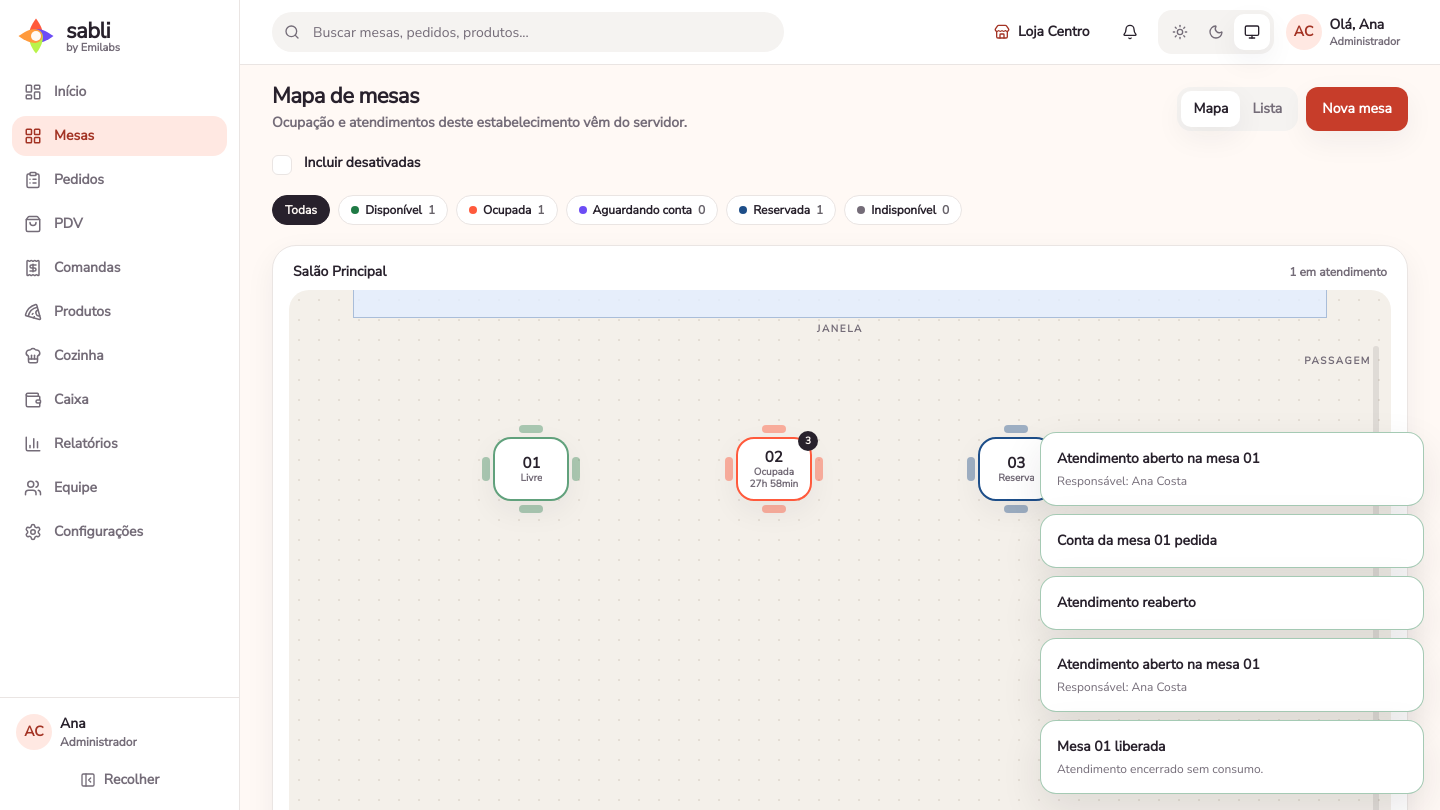
mesas API › exige confirmação para mesa reservada e recusa dupla abertura
The image size is (1440, 810).
Click the button with aria-label "mesa 03, reservada".
click(1016, 469)  # box [967,425,1065,513]
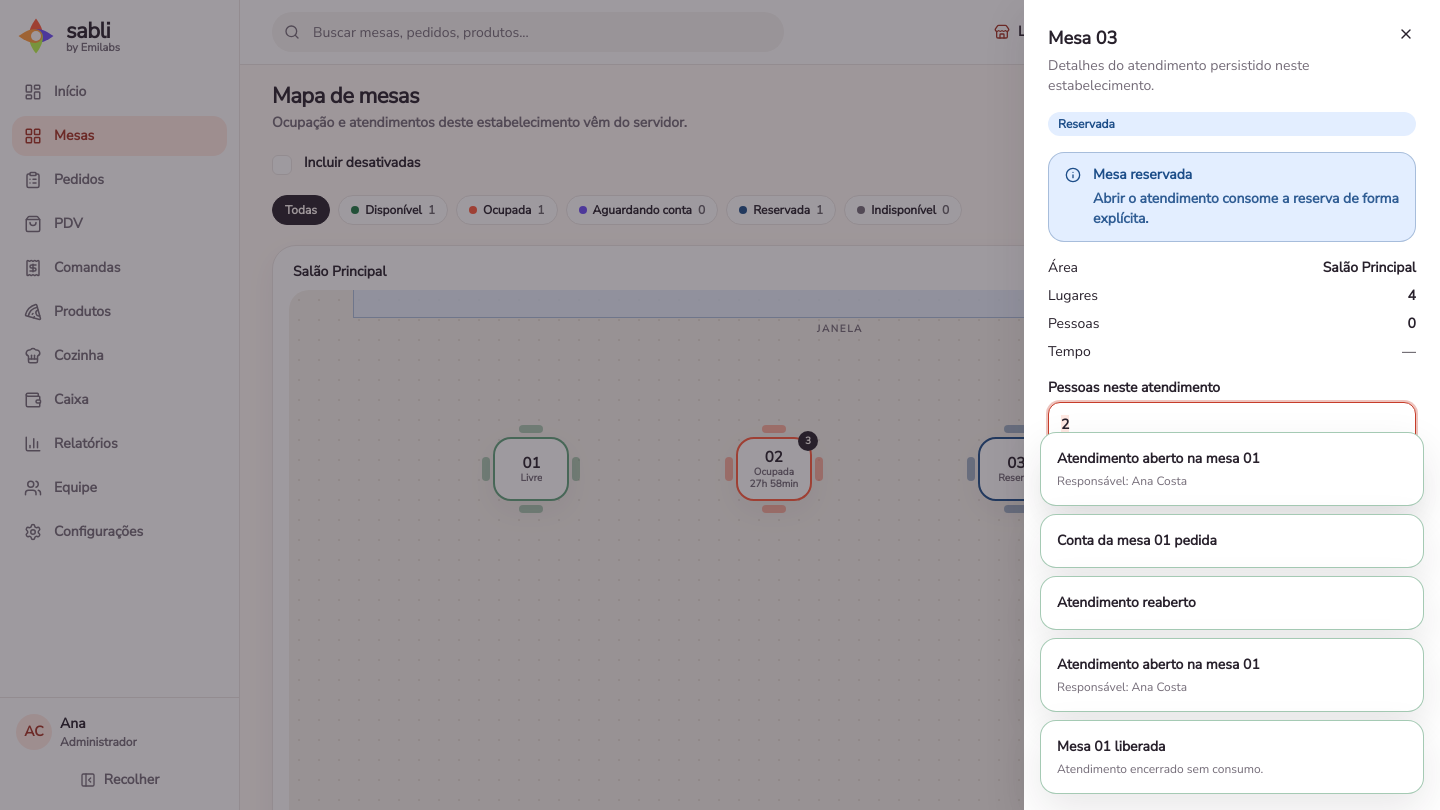
Click the button "Abrir atendimento".
click(1232, 484)  # box [1048,462,1416,506]
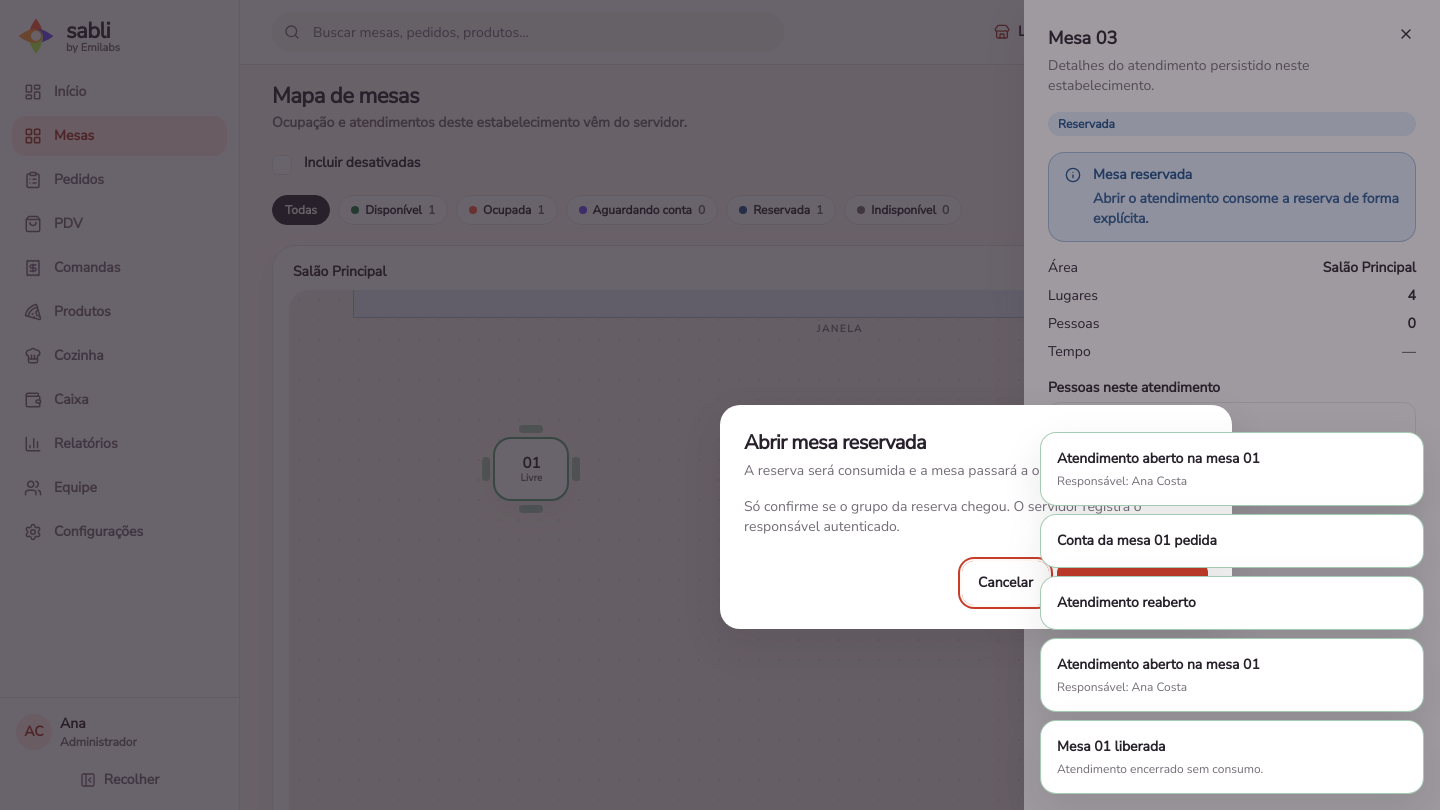
expect the heading "Abrir mesa reservada" is shown: met, box [744,429,926,456]
Click the button "Confirmar abertura".
click(1132, 583)  # box [1057,561,1208,605]
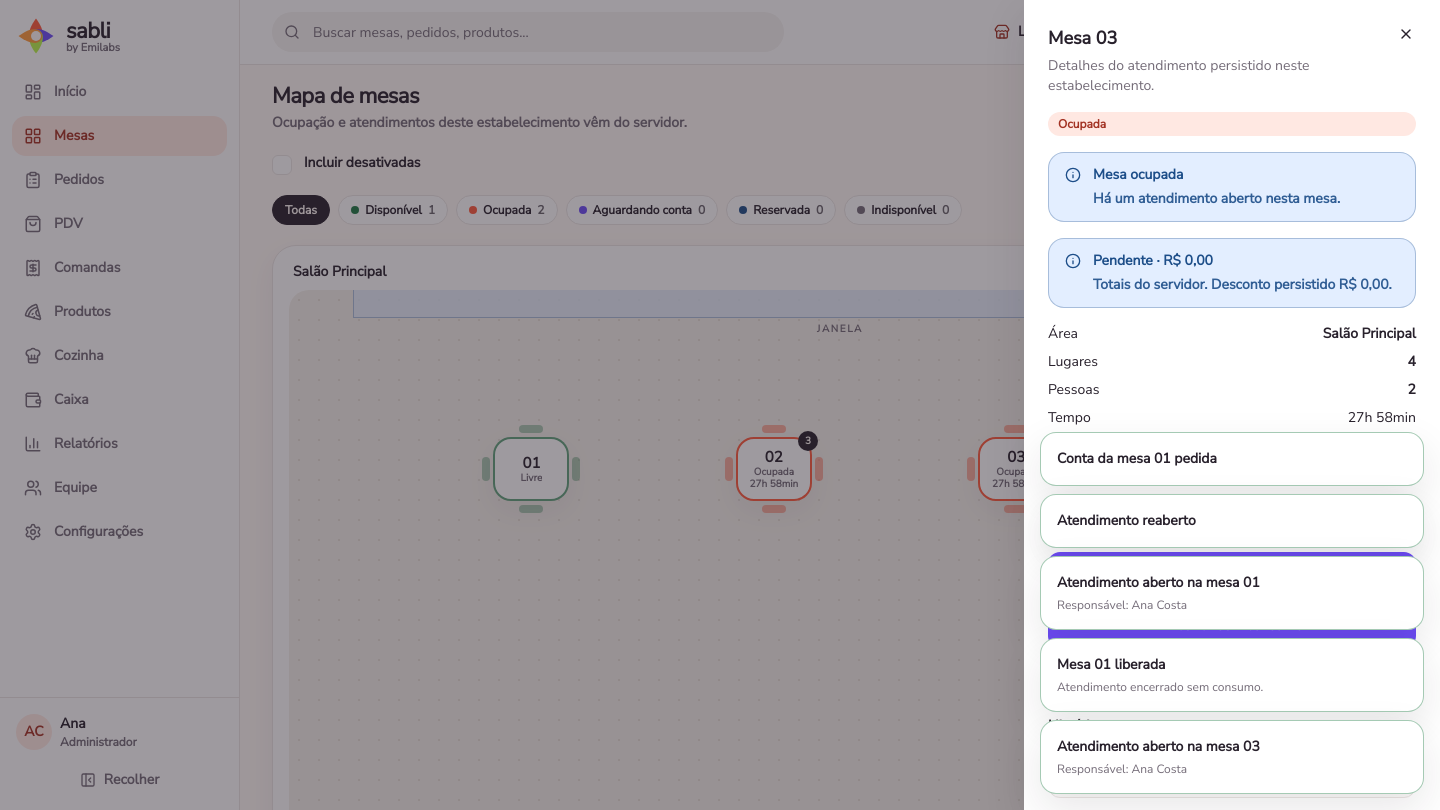
expect the text "Há um atendimento aberto nesta mesa." is shown: met, box [1093,189,1340,209]
expect the button "Abrir atendimento" is gone: met
